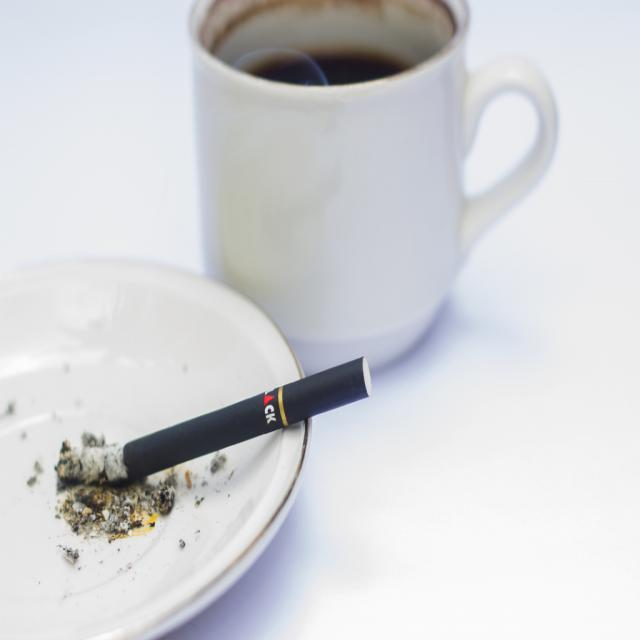Coffee: (209, 0, 462, 94)
Tea: (247, 46, 412, 83)
